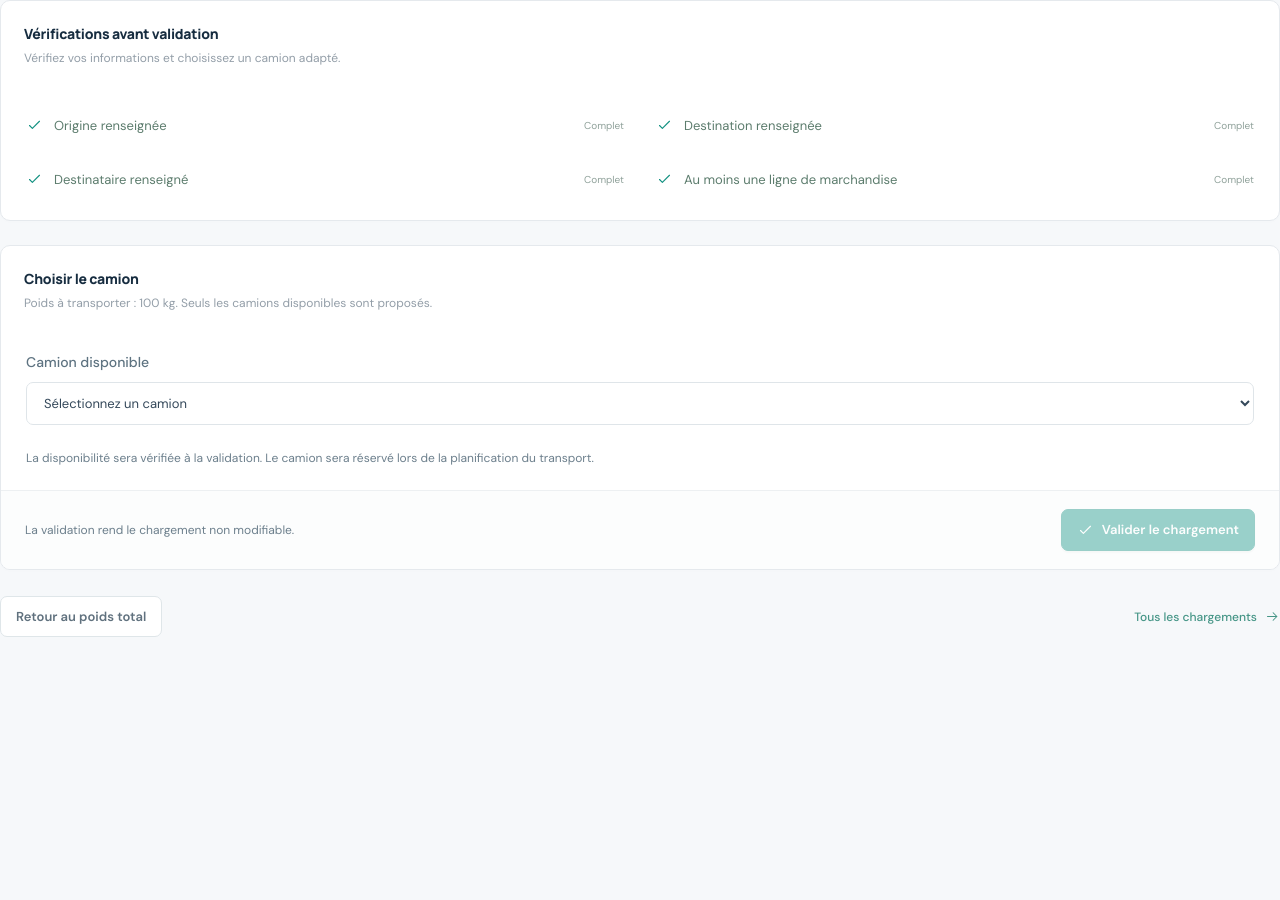
Scenario: autorise la limite exacte de capacité après confirmation
This screenshot has width=1280, height=900.
Step 1. Select "12345-A-1 · 100 kg" in the dropdown labelled "Camion disponible" → coordinates (640, 404), box [26, 382, 1254, 425]
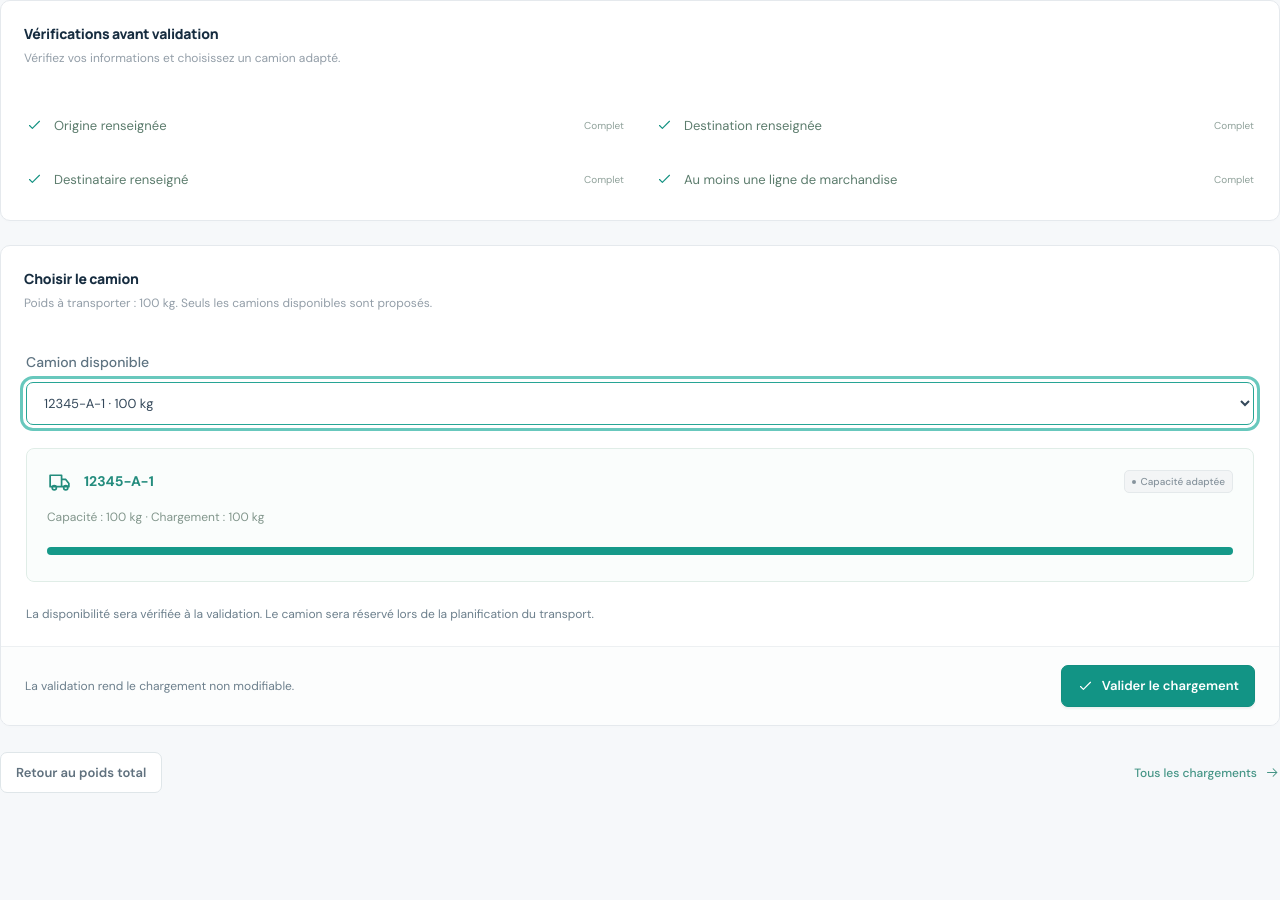
Now the button "Valider le chargement" is enabled
Step 2. Click the button "Valider le chargement" → coordinates (1158, 686), box [1061, 665, 1255, 707]
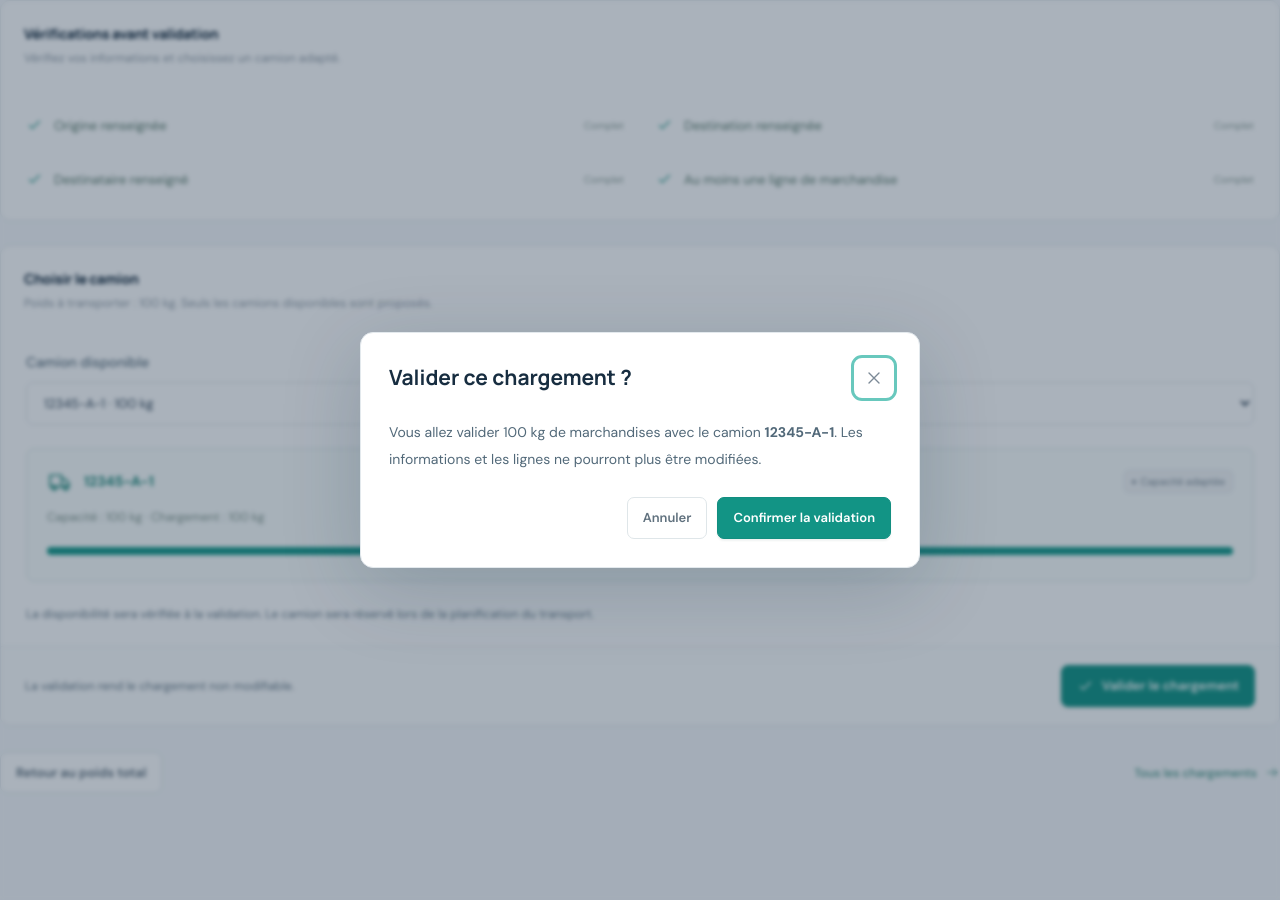
Step 3. Click the button "Confirmer la validation" → coordinates (804, 518), box [718, 497, 891, 539]
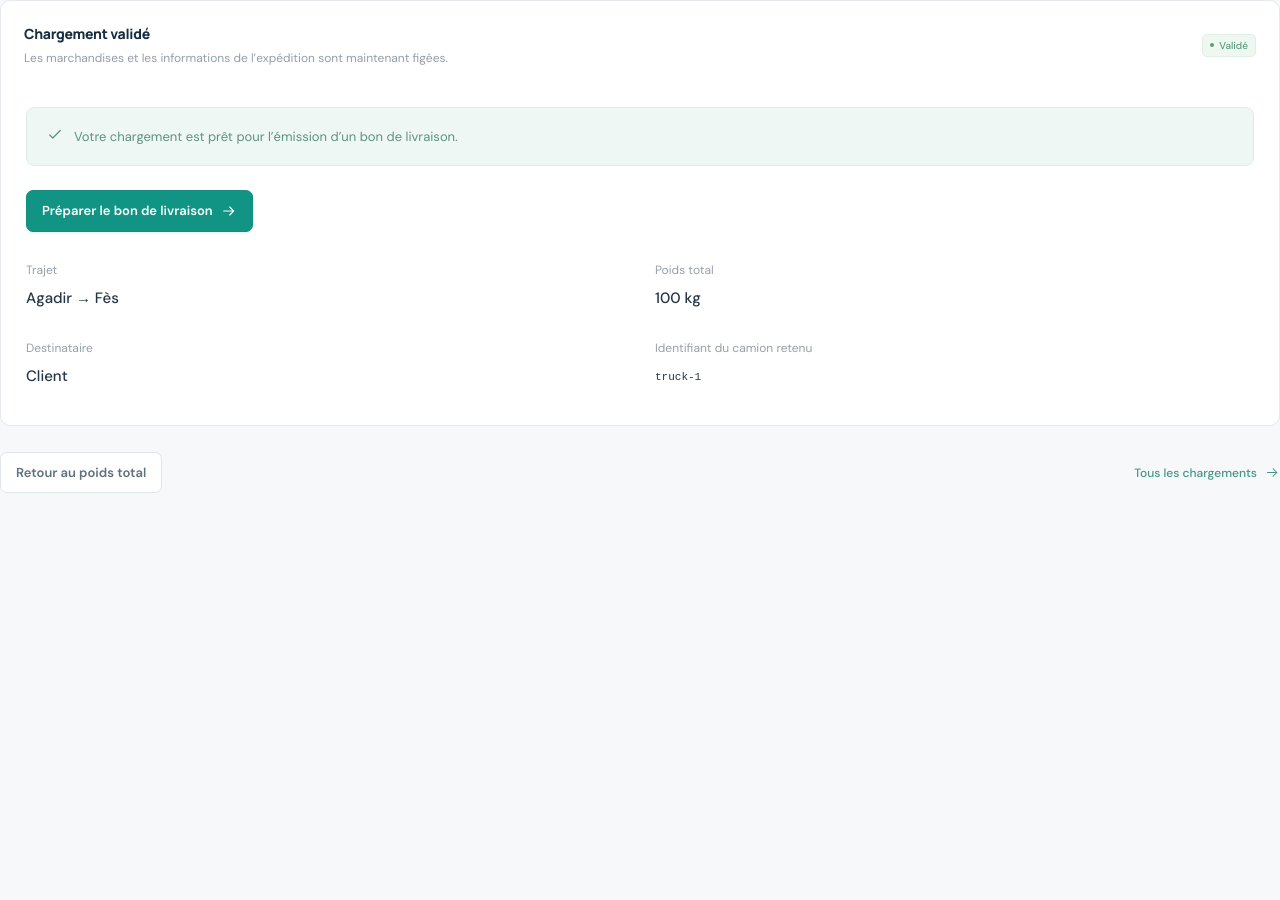
Now the heading "Chargement validé" is shown, box [24, 24, 150, 43]
